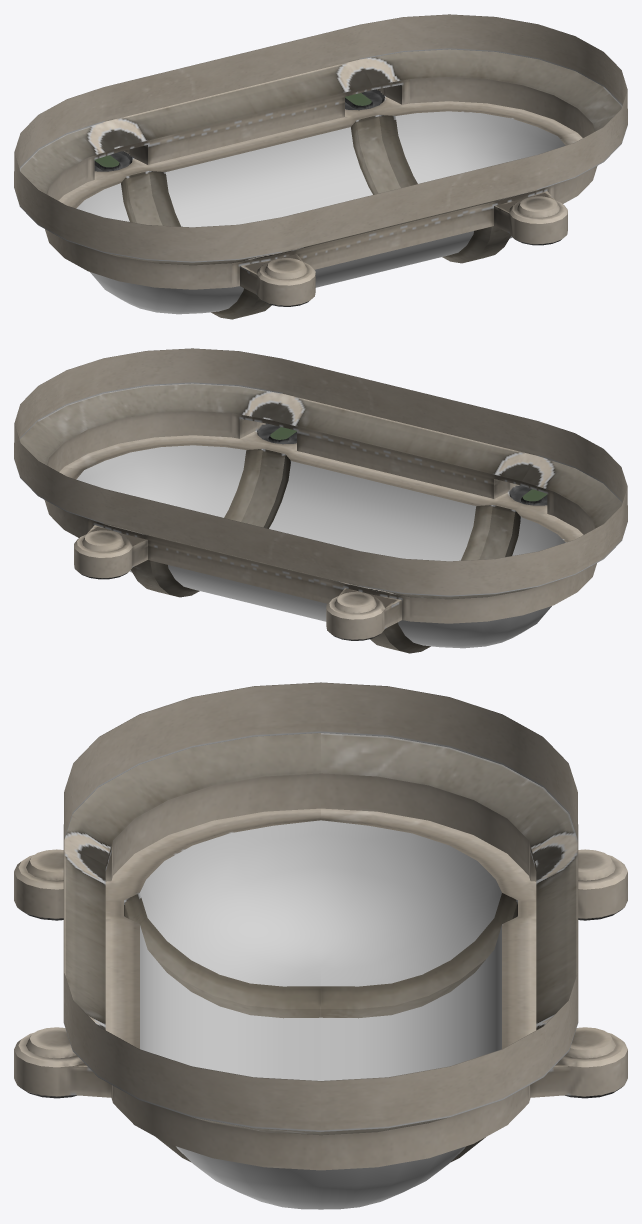
File: StreetLightCeiling.fbx
3 renders of one model, top to bottom at view 1: azimuth 30°, elevation 25°; view 2: azimuth 150°, elevation 25°; view 3: azimuth 270°, elevation 25°, orthographic. The views are drawn at different scales.
Parts seen in each view (by area): view 1: StreetLightCeiling; view 2: StreetLightCeiling; view 3: StreetLightCeiling.
Boxes of the visible parts, <box> form: StreetLightCeiling: <box>14,14,627,319</box>; StreetLightCeiling: <box>14,348,627,653</box>; StreetLightCeiling: <box>14,682,627,1209</box>.
Size of the model in its own units: 83.06 by 20.97 by 54.01.
Materials: 1 (1 with a texture image).
